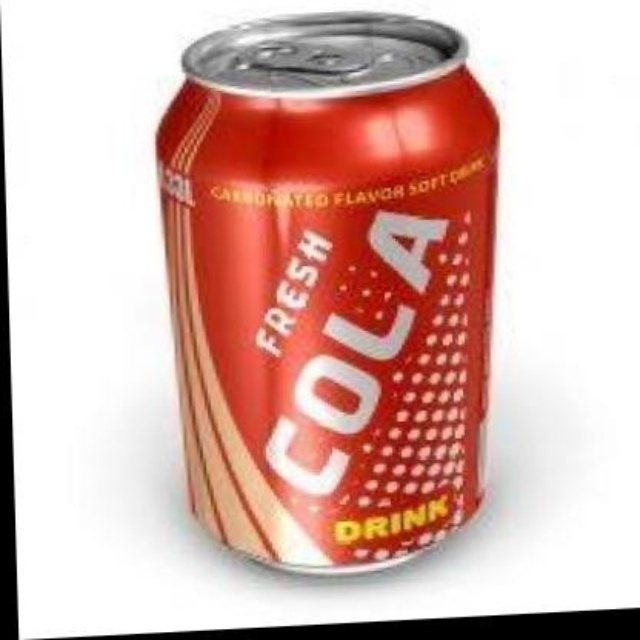trash: (157, 12, 497, 572)
